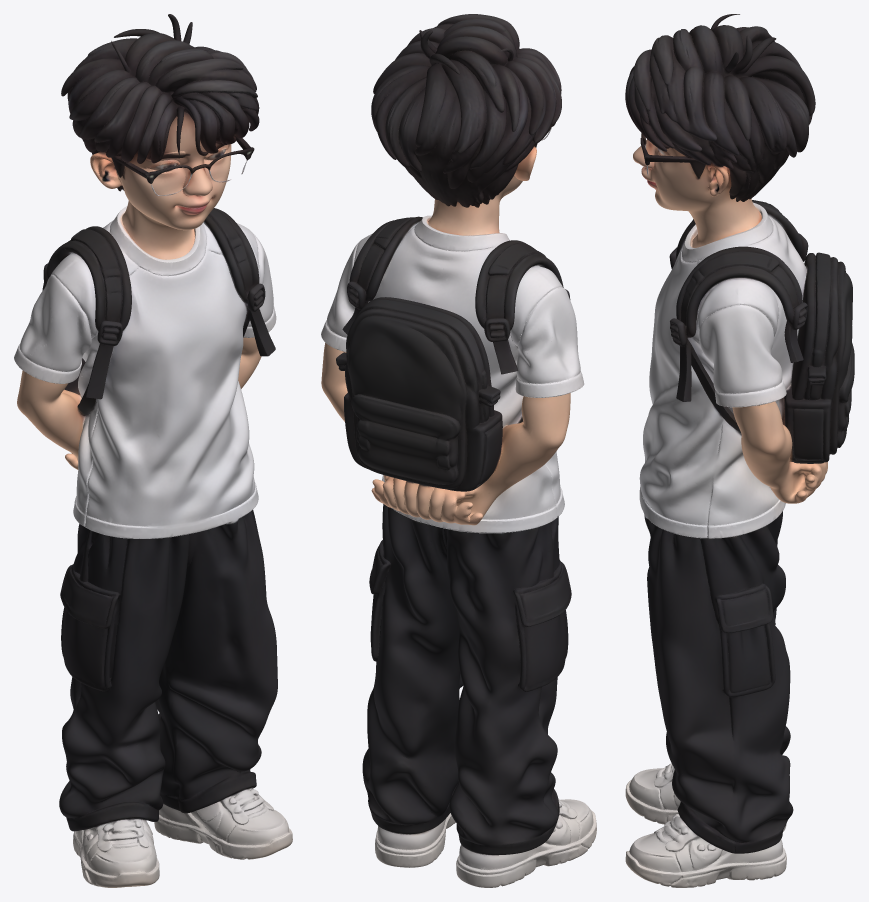
The model's file is memory-01.glb.
3 views of the same model, side by side, from view 1: azimuth 30°, elevation 25°; view 2: azimuth 150°, elevation 25°; view 3: azimuth 270°, elevation 25° (orthographic).
Visible parts, largest first — view 1: model; view 2: model; view 3: model.
Part boxes in pixels (x1=…): model: x1=14, y1=14, x2=292, y2=887; model: x1=321, y1=14, x2=596, y2=887; model: x1=625, y1=14, x2=854, y2=887.
Size of the model in its own units: 0.6091 by 1.91 by 0.4822.
1 material, 1 textured.
